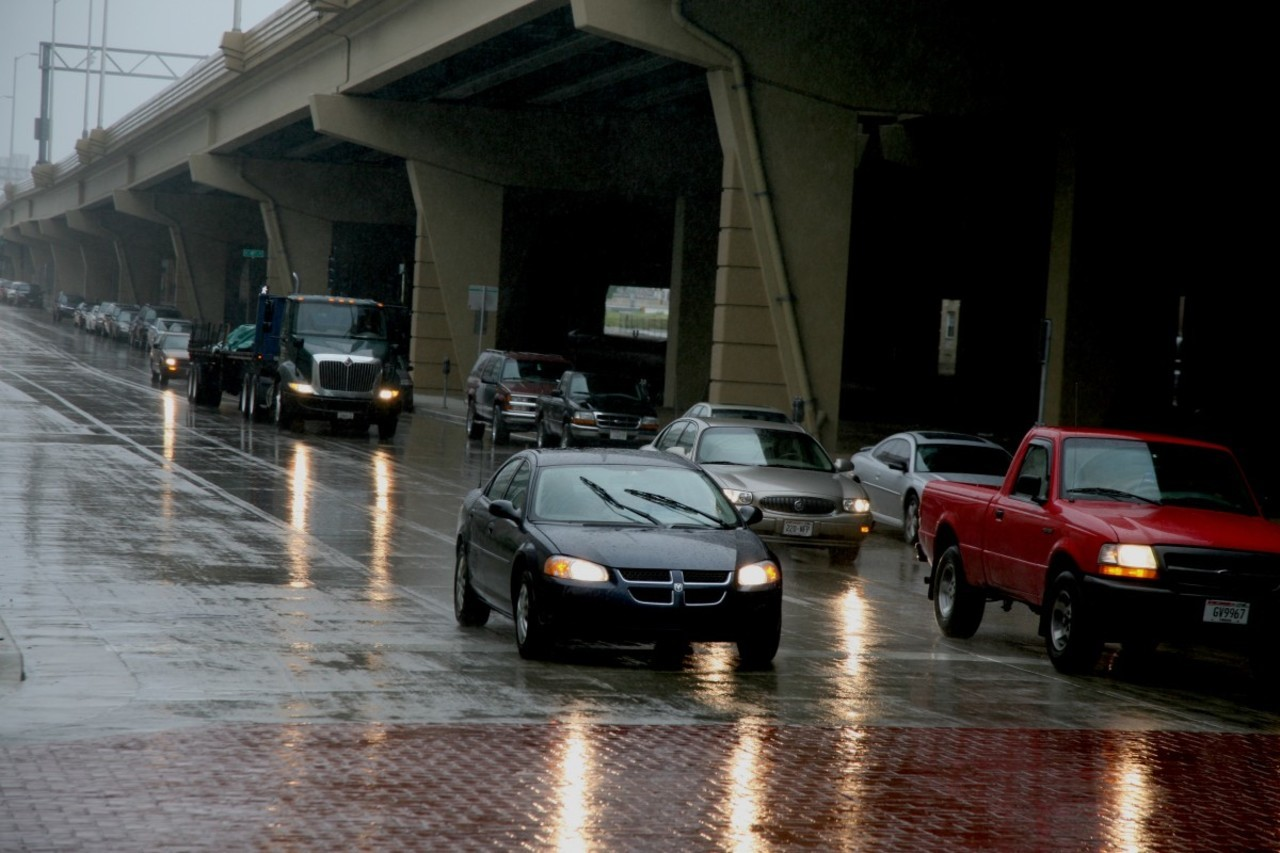car: (918, 414, 1262, 688), (447, 443, 788, 667), (642, 414, 864, 571), (848, 429, 1008, 546), (462, 349, 585, 443), (544, 360, 672, 444), (149, 324, 194, 387)
truck: (194, 279, 409, 437)
